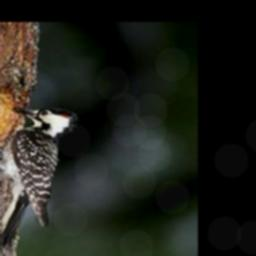Woodpecker: (0, 104, 84, 248)
